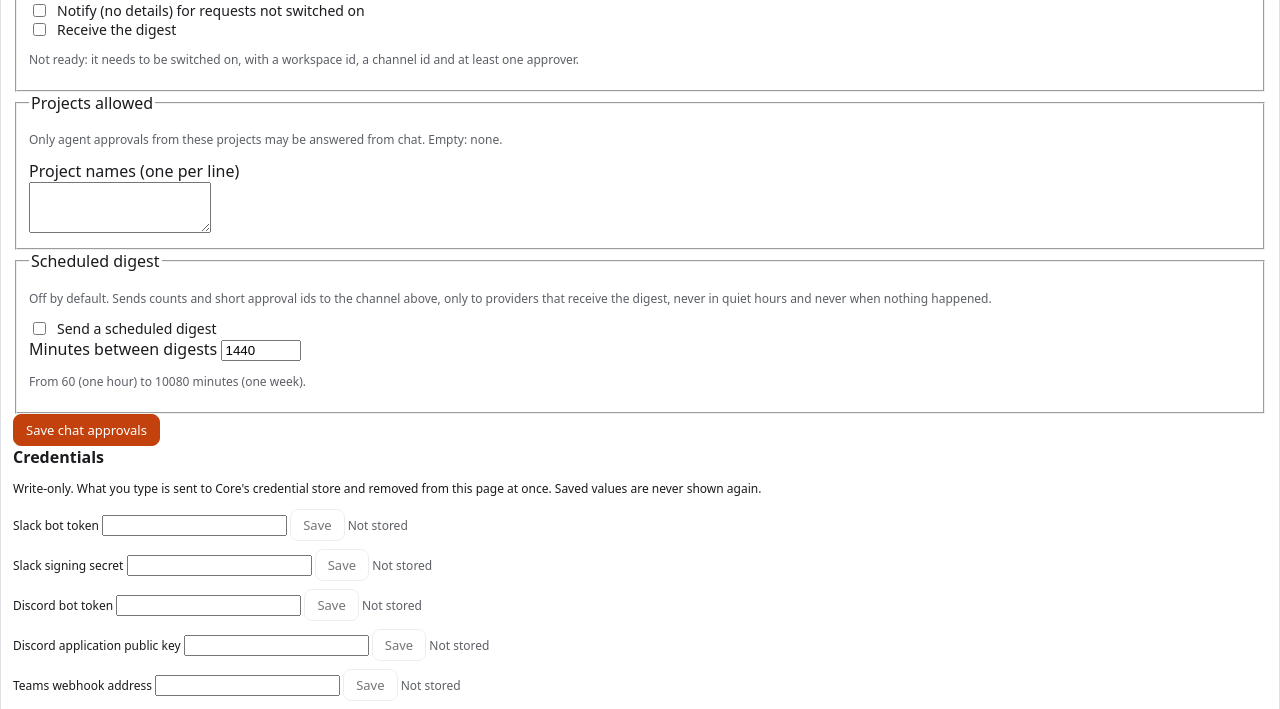
ChatApprovalsSection › refuses a digest interval under one hour and sends nothing
(page scrolled)
Replace the text in the number field labelled "Minutes between digests" with "30" at (262, 350), box 222,340 -> 302,361
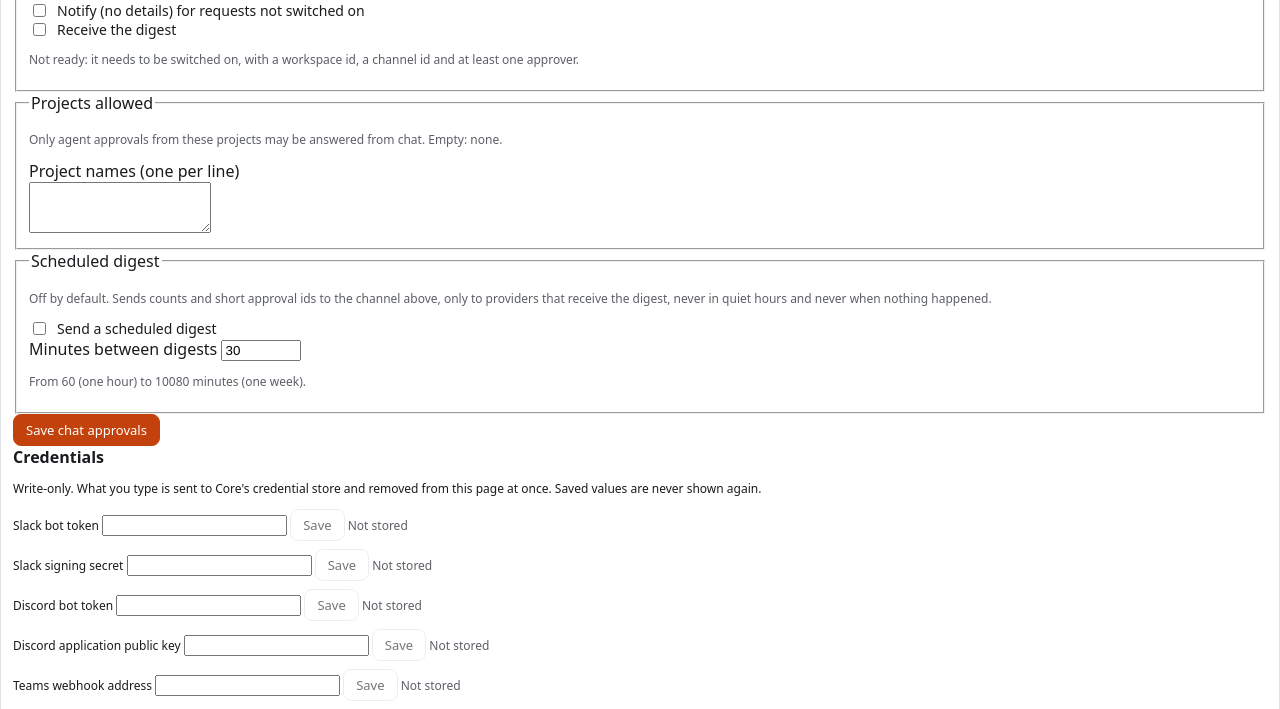
Click the button "Save chat approvals".
click(86, 430)  # box 13,414 -> 160,446
(page scrolled)
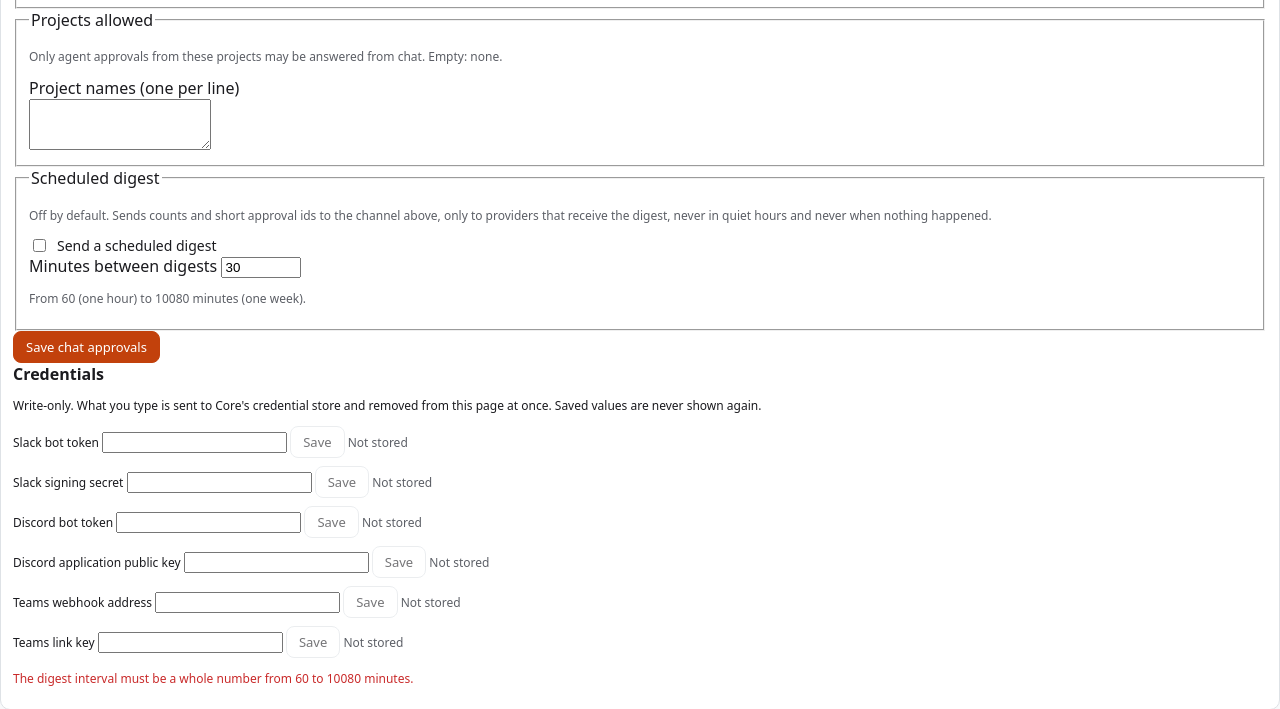
Now the message "The digest interval must be a whole number from 60 to 10080 minutes." is shown, box 13,670 -> 413,687
